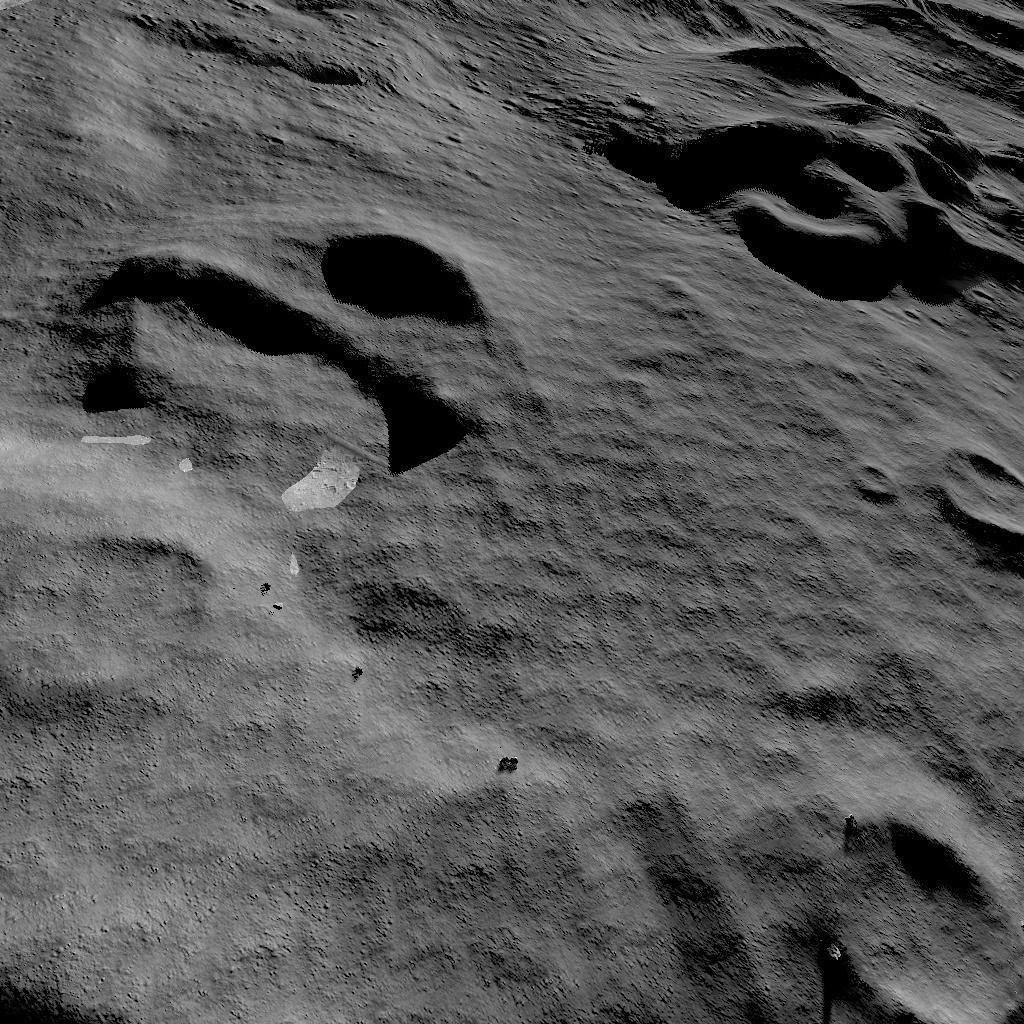Crater: (32, 201, 491, 484), (584, 0, 1024, 294), (776, 768, 1024, 1024), (0, 507, 235, 720), (919, 420, 1024, 560), (0, 946, 115, 1024), (836, 452, 901, 516)
Plan surface: (132, 778, 749, 1024), (526, 318, 811, 746), (0, 0, 571, 162)
